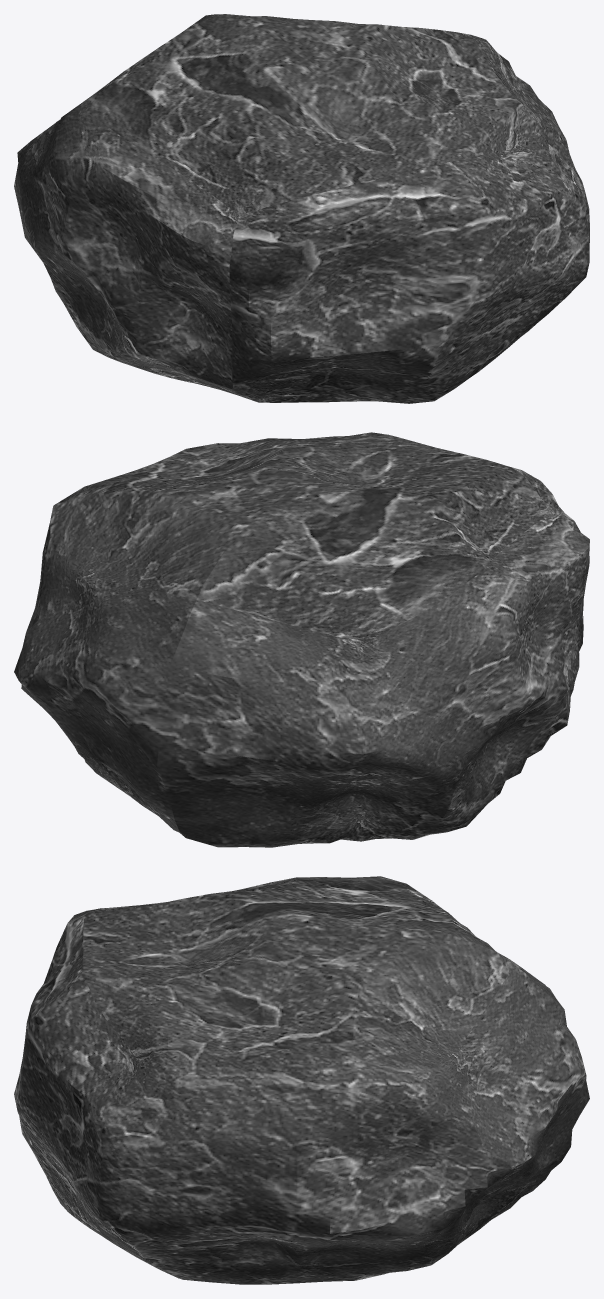
File: Piedra1.fbx
3 renders of one model, top to bottom at view 1: azimuth 30°, elevation 25°; view 2: azimuth 150°, elevation 25°; view 3: azimuth 270°, elevation 25°, orthographic. The views are drawn at different scales.
Visible parts, largest first — view 1: Cube.002; view 2: Cube.002; view 3: Cube.002.
Part boxes in pixels (<box>): Cube.002: <box>14,14,589,403</box>; Cube.002: <box>14,432,589,847</box>; Cube.002: <box>14,876,589,1284</box>.
Size of the model in its own units: 67.93 by 39.73 by 69.89.
1 material, 1 textured.
